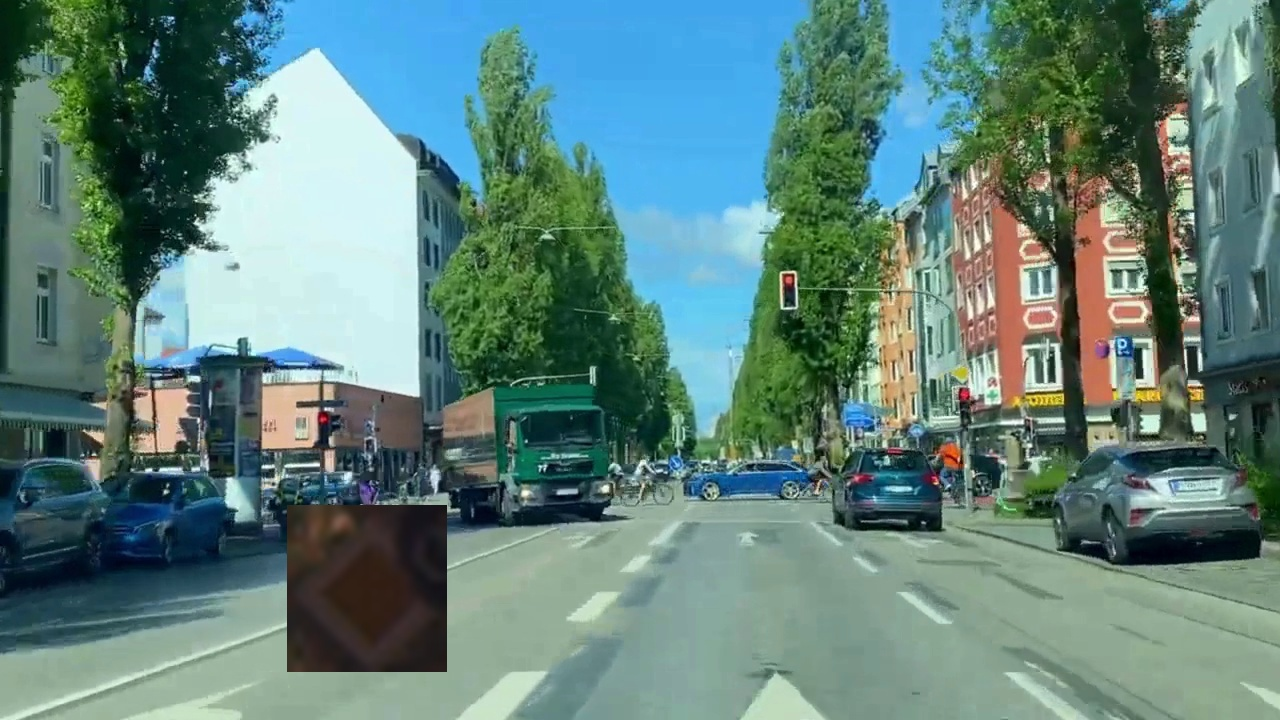Priority road: (287, 505, 447, 672)
